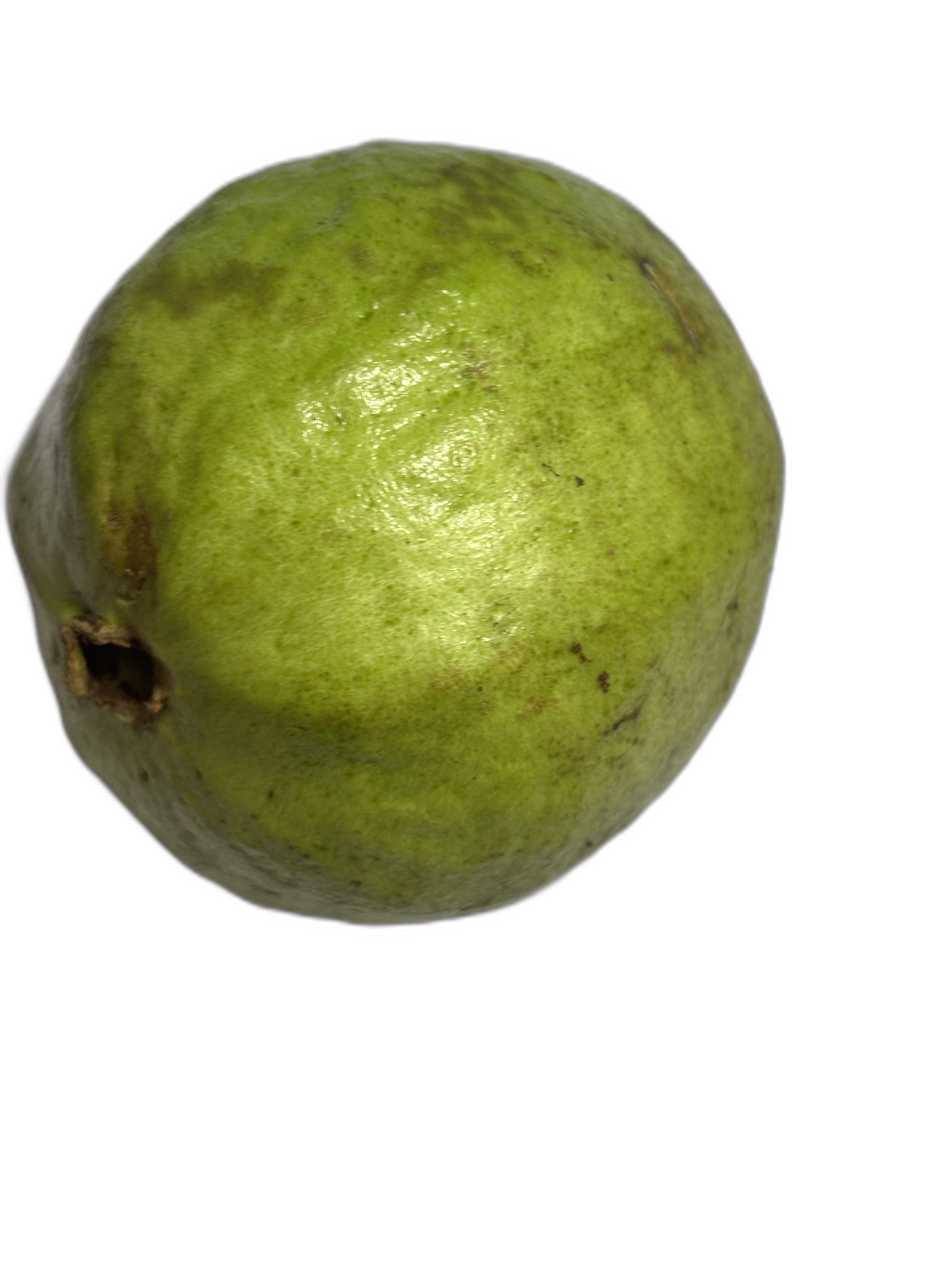guava: (179, 72, 943, 974)
